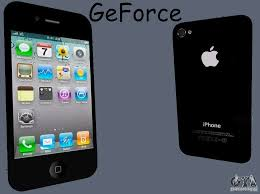iphone: (3, 1, 103, 194), (170, 13, 252, 162)
iphone4: (3, 1, 103, 192)
